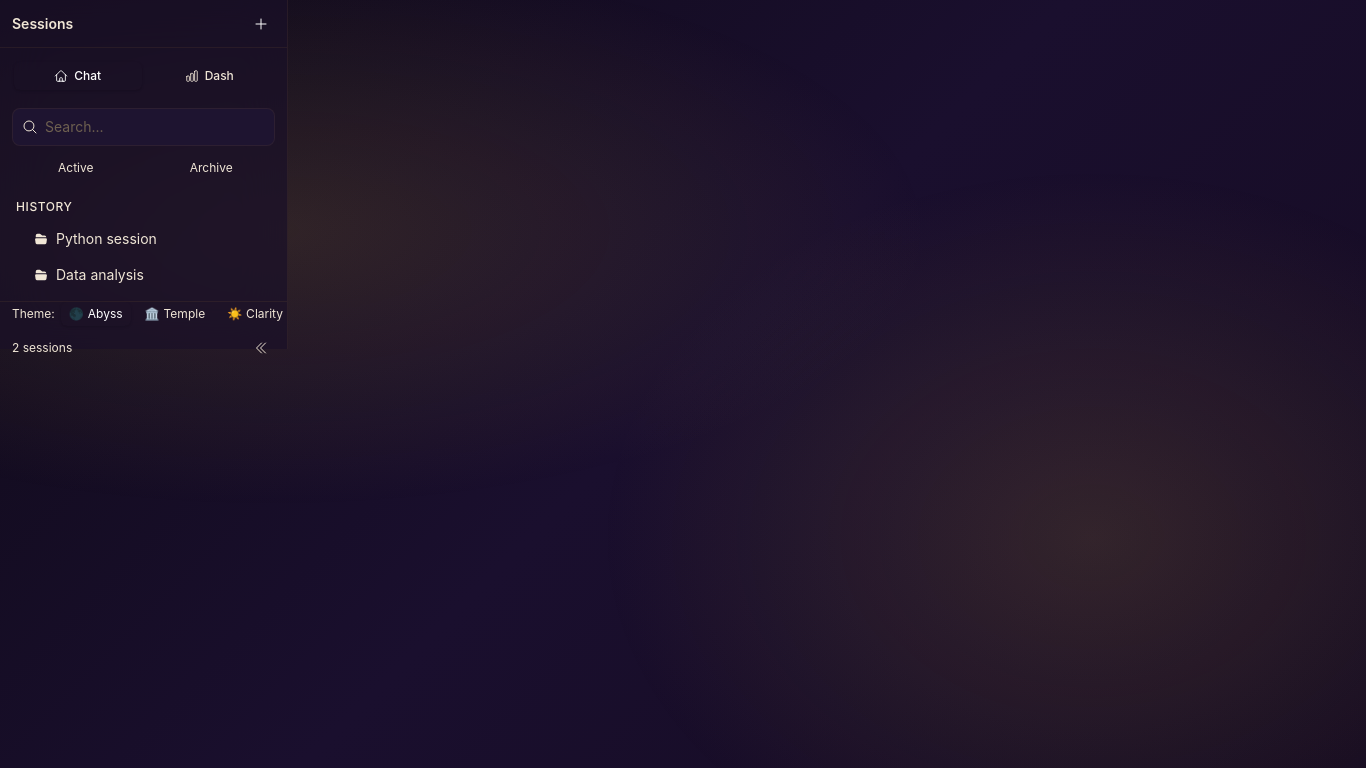
Test: Sidebar › search › filters sessions by title
expect the text "Python session" is shown: met, box [56,230,157,247]
In the field with placeholder "Search...": (144, 127) [12,108,275,146], type "python"
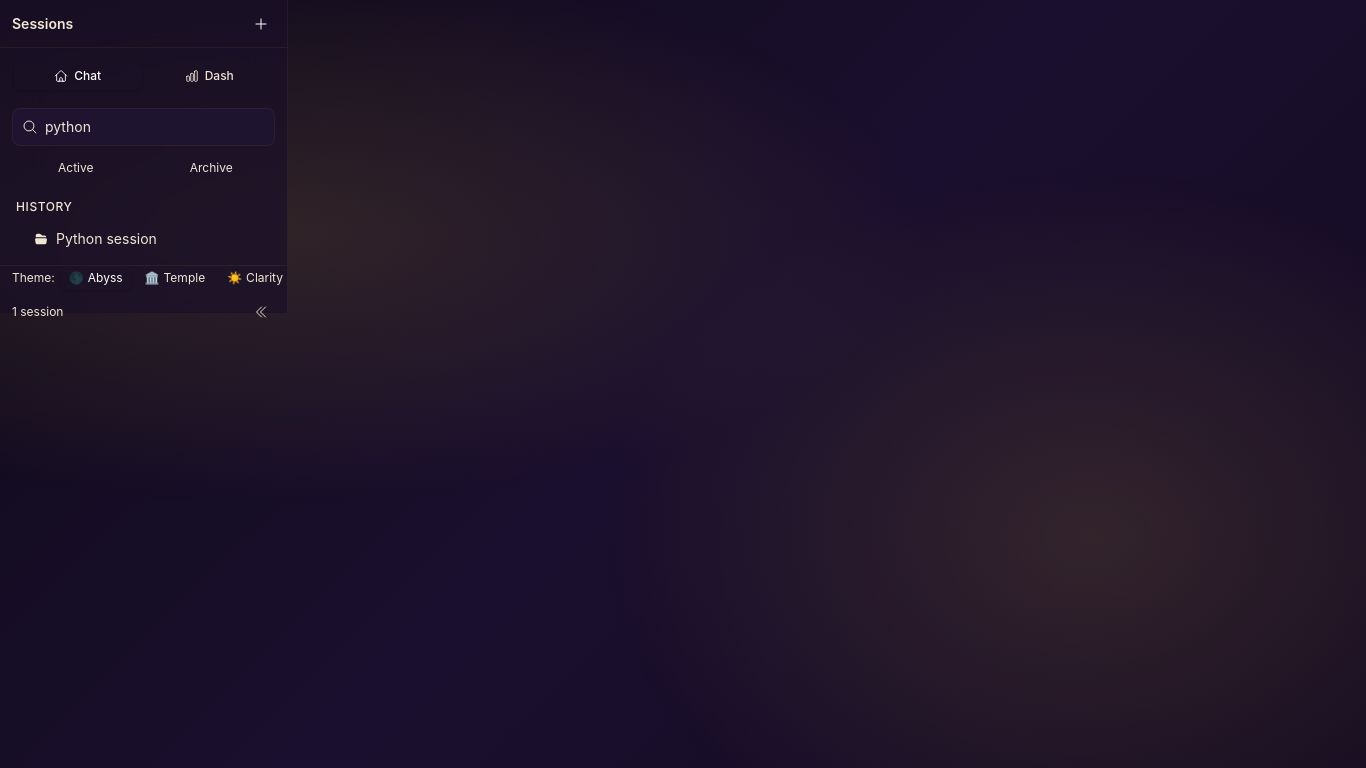
expect the text "Python session" is shown: met, box [56,230,157,247]
expect the text "Data analysis" is gone: met
